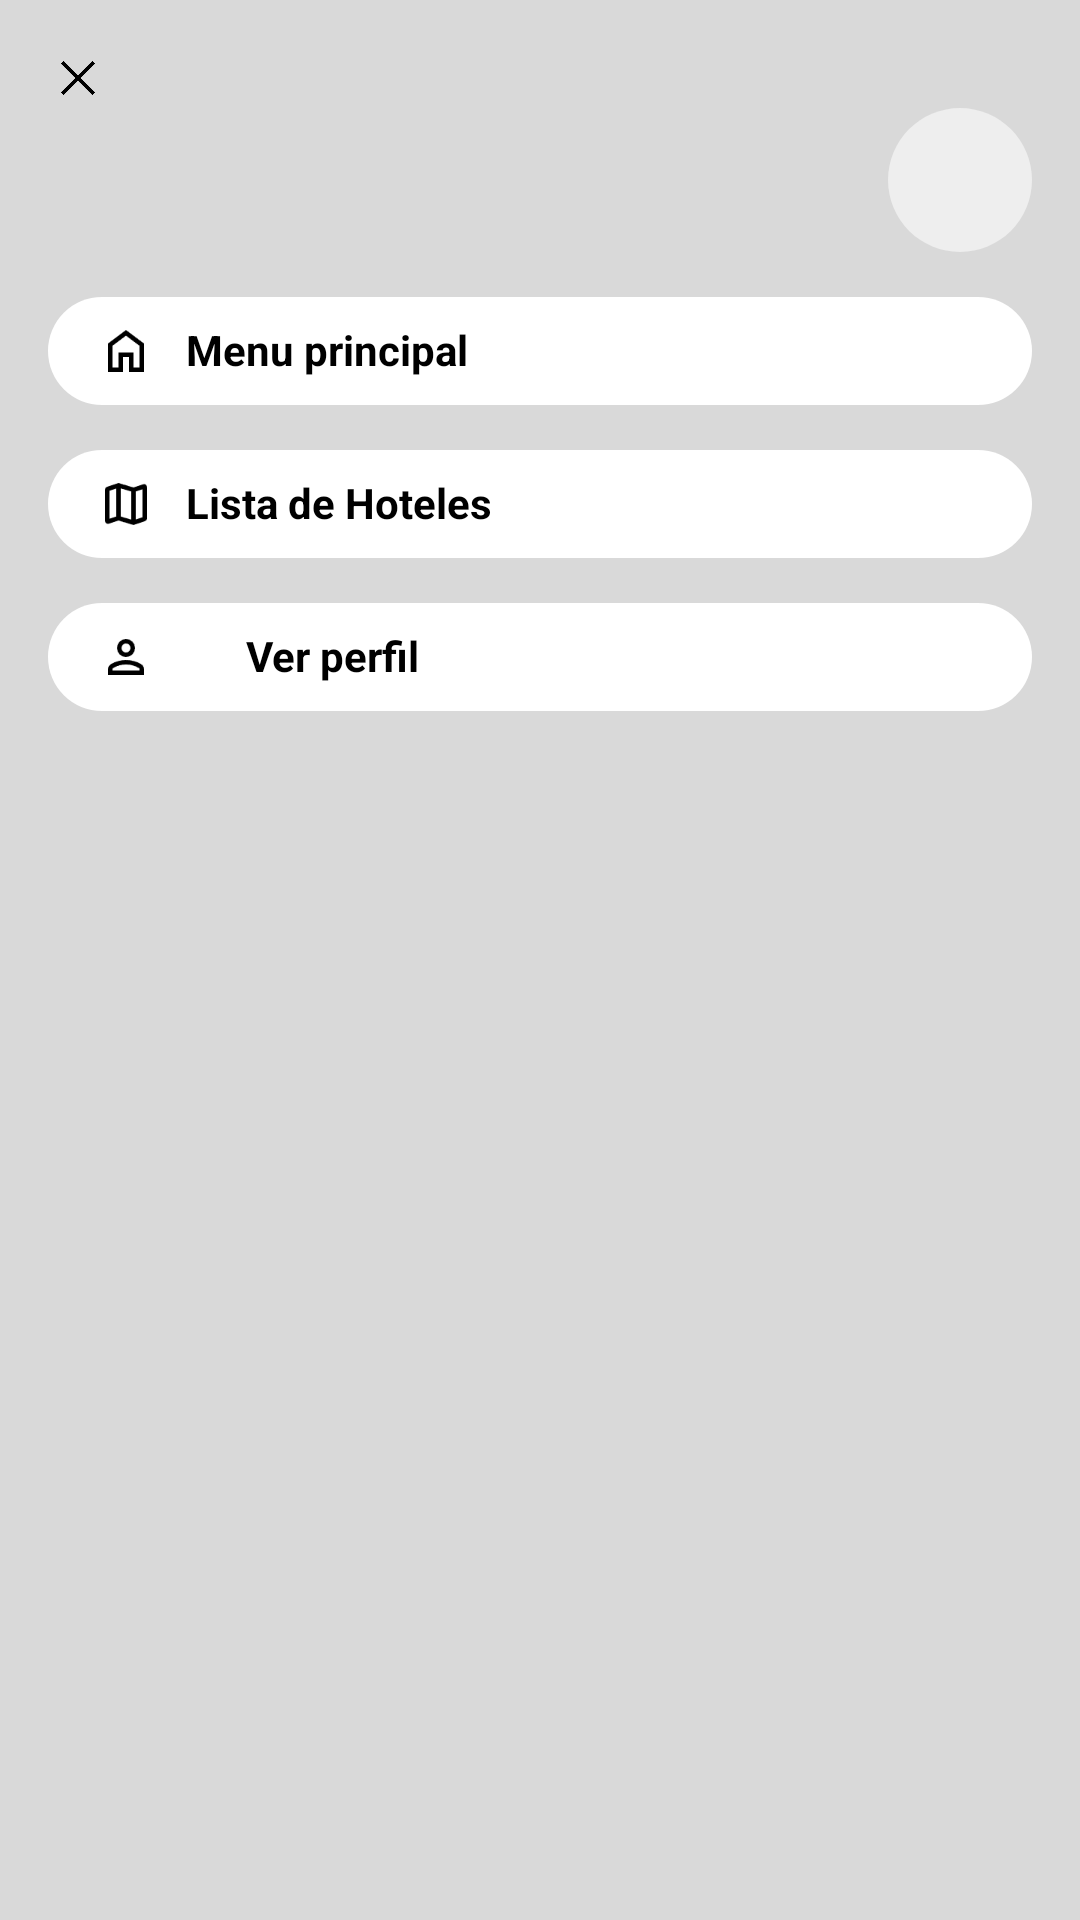

Named icons in this screenshot (1080 x 1920) and their bounding boxes, (x1, y1, x2, y2):
close: (61, 61, 95, 95)
home: (108, 330, 144, 372)
map: (105, 483, 147, 525)
user: (108, 639, 144, 675)
